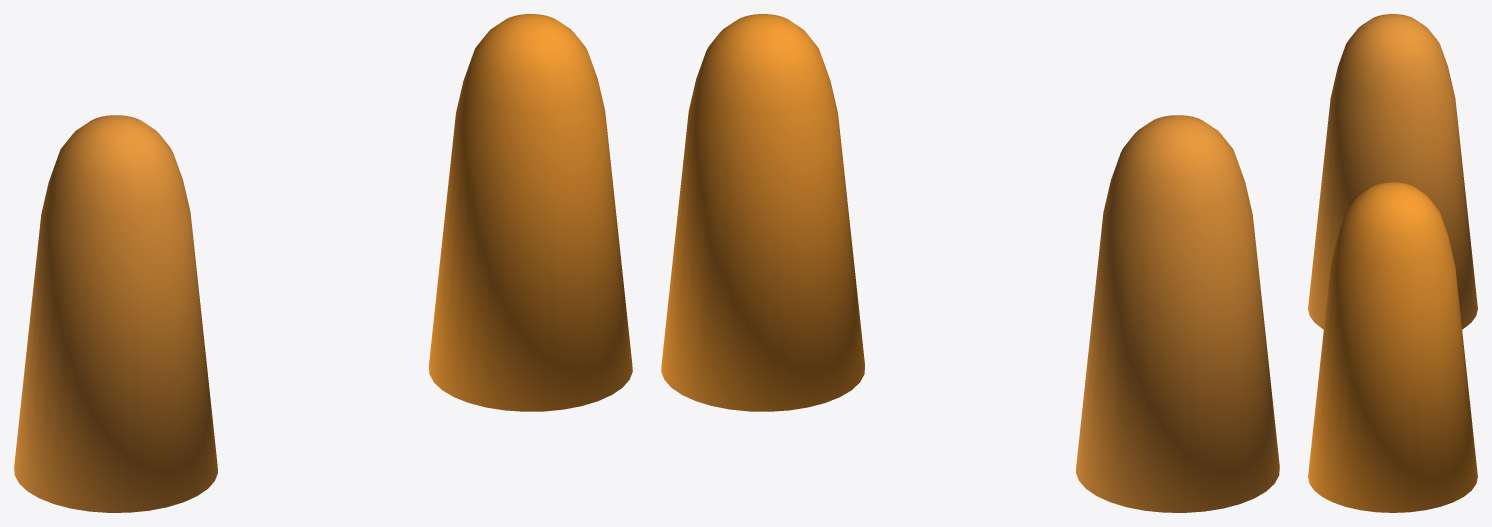
The model's file is Ørepropper.fbx.
The picture shows the model from 3 angles, left to right: view 1: azimuth 30°, elevation 25°; view 2: azimuth 150°, elevation 25°; view 3: azimuth 270°, elevation 25°; orthographic projection. The views are drawn at different scales.
Parts seen in each view (by area): view 1: Øreprop2, Øreprop1; view 2: Øreprop2, Øreprop1; view 3: Øreprop2, Øreprop1.
Boxes of the visible parts, bbox=[...] form: Øreprop2: bbox=[429, 14, 632, 411]; Øreprop1: bbox=[14, 115, 217, 512]; Øreprop2: bbox=[661, 14, 864, 411]; Øreprop1: bbox=[1076, 115, 1279, 512]; Øreprop2: bbox=[1308, 182, 1477, 512]; Øreprop1: bbox=[1308, 14, 1477, 329].
Size of the model in its own units: 841 by 474 by 252.
